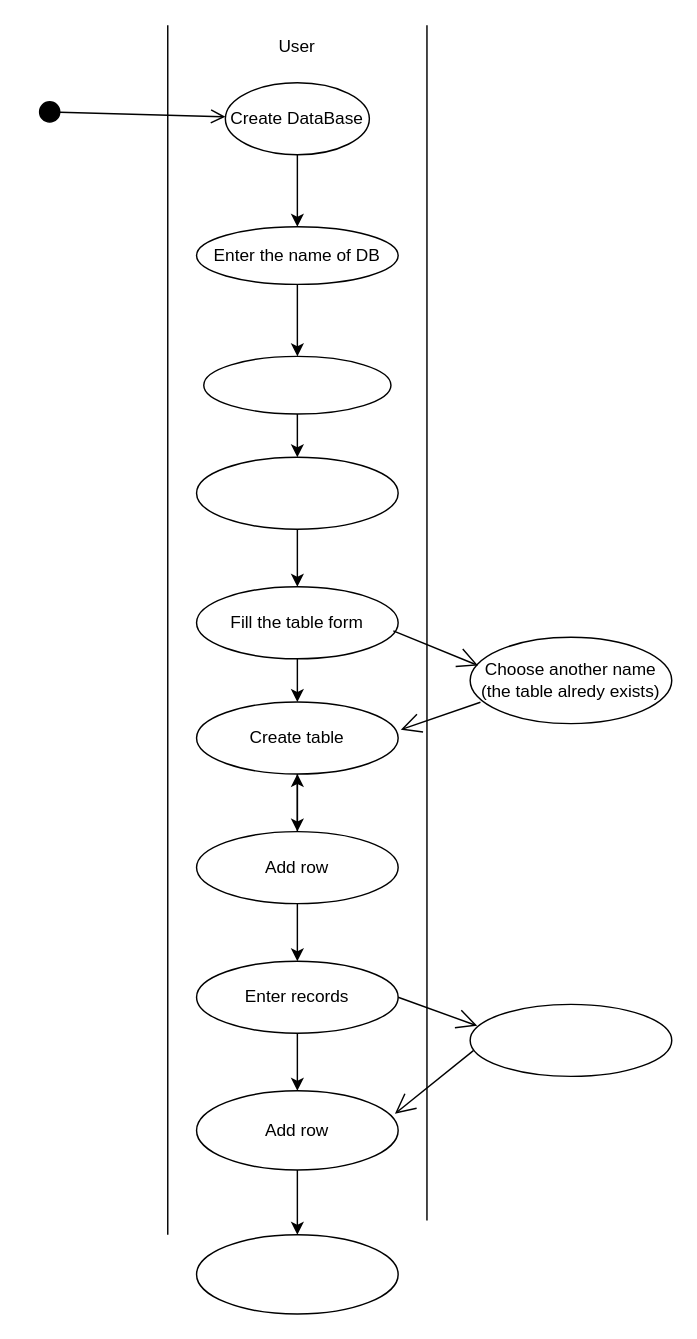
This 697x1339 diagram has some shape labels left out. Each missing label, with the box of its shape:
Add Table: (195, 456, 398, 529)
Create DB: (202, 355, 391, 414)
Enter another records (isRowValid == false): (469, 1003, 672, 1076)
Save: (195, 1233, 398, 1314)
